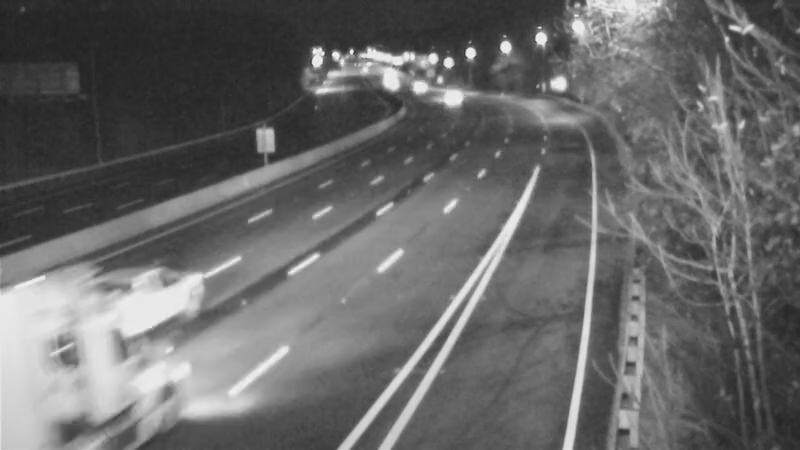vehicle: (45, 324, 155, 434), (366, 59, 416, 109), (389, 59, 439, 109), (423, 72, 473, 122)
